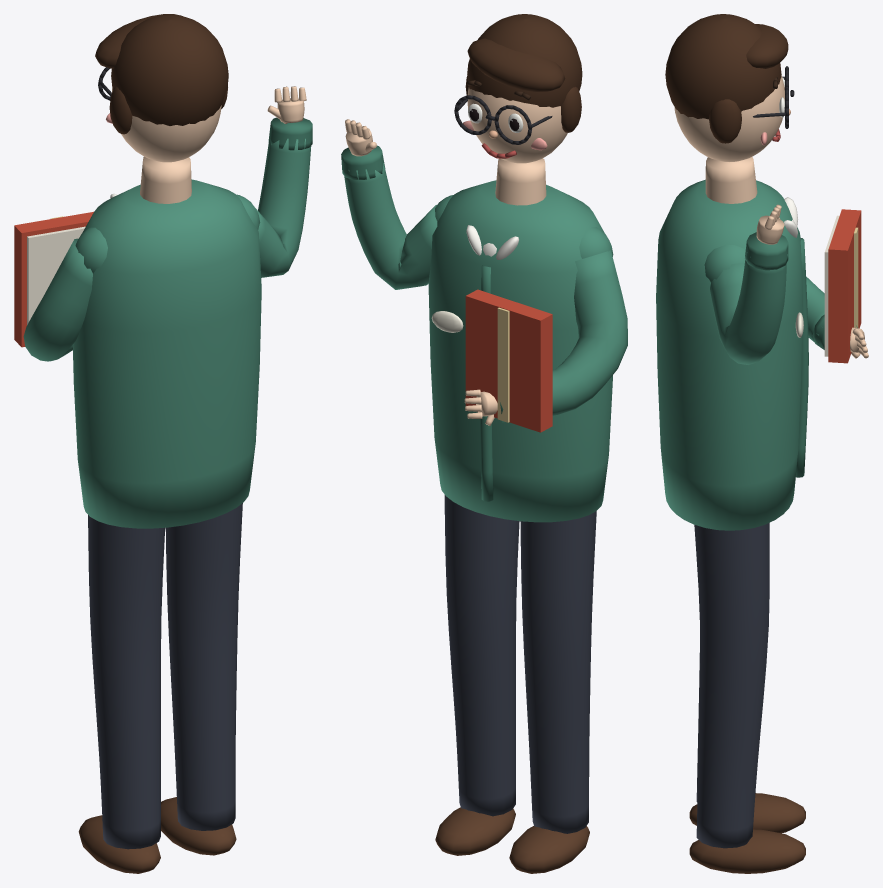
The model's file is npc-dasi-teacher.glb.
3 views of the same model, side by side, from view 1: azimuth 30°, elevation 25°; view 2: azimuth 150°, elevation 25°; view 3: azimuth 270°, elevation 25° (orthographic). The views are drawn at different scales.
Parts seen in each view (by area): view 1: teacher_cardigan, teacher_leg_left, teacher_leg_right, teacher_hair_cap, teacher_arm_wave, teacher_arm_book, teacher_head, teacher_book_pages, teacher_book, teacher_shoe_left, teacher_neck, teacher_shoe_right (+4 smaller); view 2: teacher_cardigan, teacher_leg_left, teacher_leg_right, teacher_book, teacher_arm_book, teacher_arm_wave, teacher_hair_cap, teacher_head, teacher_hair_fringe, teacher_shoe_left, teacher_shoe_right, teacher_neck (+5 smaller); view 3: teacher_cardigan, teacher_leg_right, teacher_hair_cap, teacher_arm_wave, teacher_book, teacher_head, teacher_shoe_right, teacher_neck, teacher_shoe_left, teacher_placket, teacher_hair_fringe, teacher_cuff_wave (+6 smaller).
Boxes of the visible parts, x1,y1,x2,y2 form: teacher_cardigan: (72, 179, 261, 528); teacher_leg_left: (88, 515, 165, 849); teacher_leg_right: (165, 503, 242, 830); teacher_hair_cap: (111, 14, 228, 125); teacher_arm_wave: (254, 135, 311, 277); teacher_arm_book: (23, 238, 92, 361); teacher_head: (111, 88, 221, 162); teacher_book_pages: (27, 226, 85, 325); teacher_book: (14, 211, 93, 347); teacher_shoe_left: (78, 815, 160, 873); teacher_neck: (140, 156, 191, 203); teacher_shoe_right: (161, 797, 236, 855); teacher_cardigan: (428, 180, 612, 522); teacher_leg_left: (520, 511, 596, 833); teacher_leg_right: (444, 495, 519, 816); teacher_book: (465, 289, 552, 432); teacher_arm_book: (552, 250, 627, 415); teacher_arm_wave: (344, 163, 437, 289); teacher_hair_cap: (467, 14, 582, 107); teacher_head: (467, 87, 567, 163); teacher_hair_fringe: (467, 38, 565, 91); teacher_shoe_left: (509, 826, 589, 873); teacher_shoe_right: (435, 807, 515, 855); teacher_neck: (495, 158, 546, 205); teacher_cardigan: (656, 179, 802, 530); teacher_leg_right: (694, 523, 769, 848); teacher_hair_cap: (665, 14, 781, 119); teacher_arm_wave: (710, 252, 787, 364); teacher_book: (828, 209, 861, 363); teacher_head: (674, 75, 784, 161); teacher_shoe_right: (689, 829, 805, 873); teacher_neck: (705, 157, 757, 203); teacher_shoe_left: (689, 793, 805, 833); teacher_placket: (795, 238, 808, 477); teacher_hair_fringe: (746, 24, 788, 68); teacher_cuff_wave: (744, 232, 788, 270).
Size of the model in its own units: 0.6175 by 1.77 by 0.4106.
